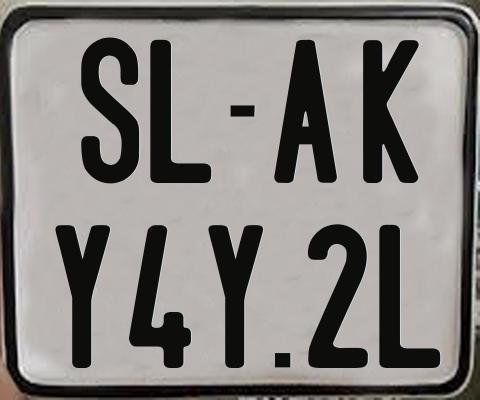2: (306, 223, 370, 367)
4: (127, 222, 195, 368)
A: (273, 40, 341, 188)
K: (362, 39, 422, 186)
L: (150, 37, 216, 182), (376, 224, 437, 373)
S: (78, 35, 139, 188)
Y: (208, 223, 267, 368), (53, 225, 108, 368)
